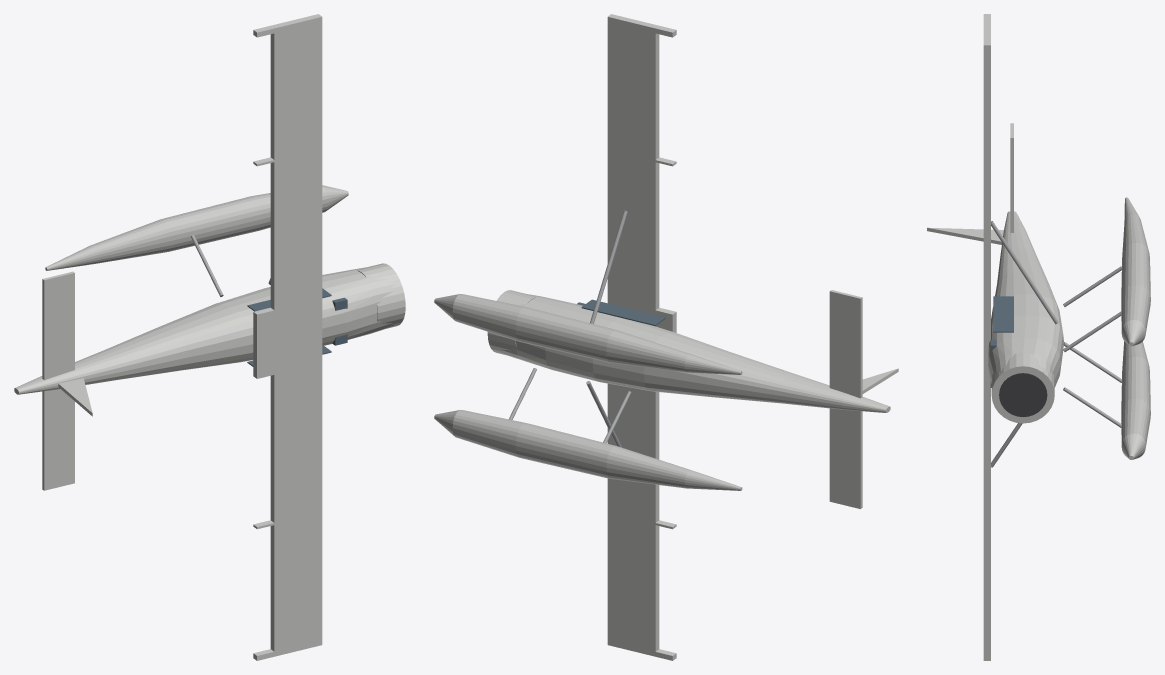
Rendered from beaver_body_white.glb.
3 views of the same model, side by side, from view 1: azimuth 30°, elevation 25°; view 2: azimuth 150°, elevation 25°; view 3: azimuth 270°, elevation 25° (orthographic). The views are drawn at different scales.
Visible parts, largest first — view 1: part15, part16, part0, part21, part19, part1, part20; view 2: part15, part16, part0, part24, part21, part19, part13, part1; view 3: part0, part21, part24, part15, part16, part1, part2, part13, part20, part17, part19.
Boxes of the visible parts, x1,y1,x2,y2 form: part15: [253, 14, 322, 346]; part16: [253, 331, 322, 660]; part0: [14, 267, 395, 394]; part21: [45, 185, 348, 270]; part19: [42, 271, 74, 490]; part1: [357, 263, 405, 328]; part20: [58, 378, 92, 416]; part15: [607, 14, 676, 332]; part16: [607, 383, 676, 660]; part0: [498, 294, 890, 412]; part24: [434, 410, 742, 490]; part21: [434, 294, 742, 374]; part19: [829, 290, 862, 508]; part13: [581, 299, 665, 326]; part1: [487, 290, 535, 354]; part0: [988, 211, 1063, 387]; part21: [1121, 197, 1150, 346]; part24: [1121, 341, 1150, 459]; part15: [983, 14, 990, 352]; part16: [983, 353, 990, 660]; part1: [991, 353, 1054, 423]; part2: [999, 373, 1047, 416]; part13: [993, 296, 1013, 332]; part20: [927, 227, 1003, 244]; part17: [991, 221, 1058, 324]; part19: [1010, 123, 1013, 233].
Size of the model in its own units: 9.55 by 14.63 by 4.82.
